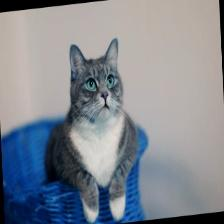kedo: (48, 38, 138, 220)
